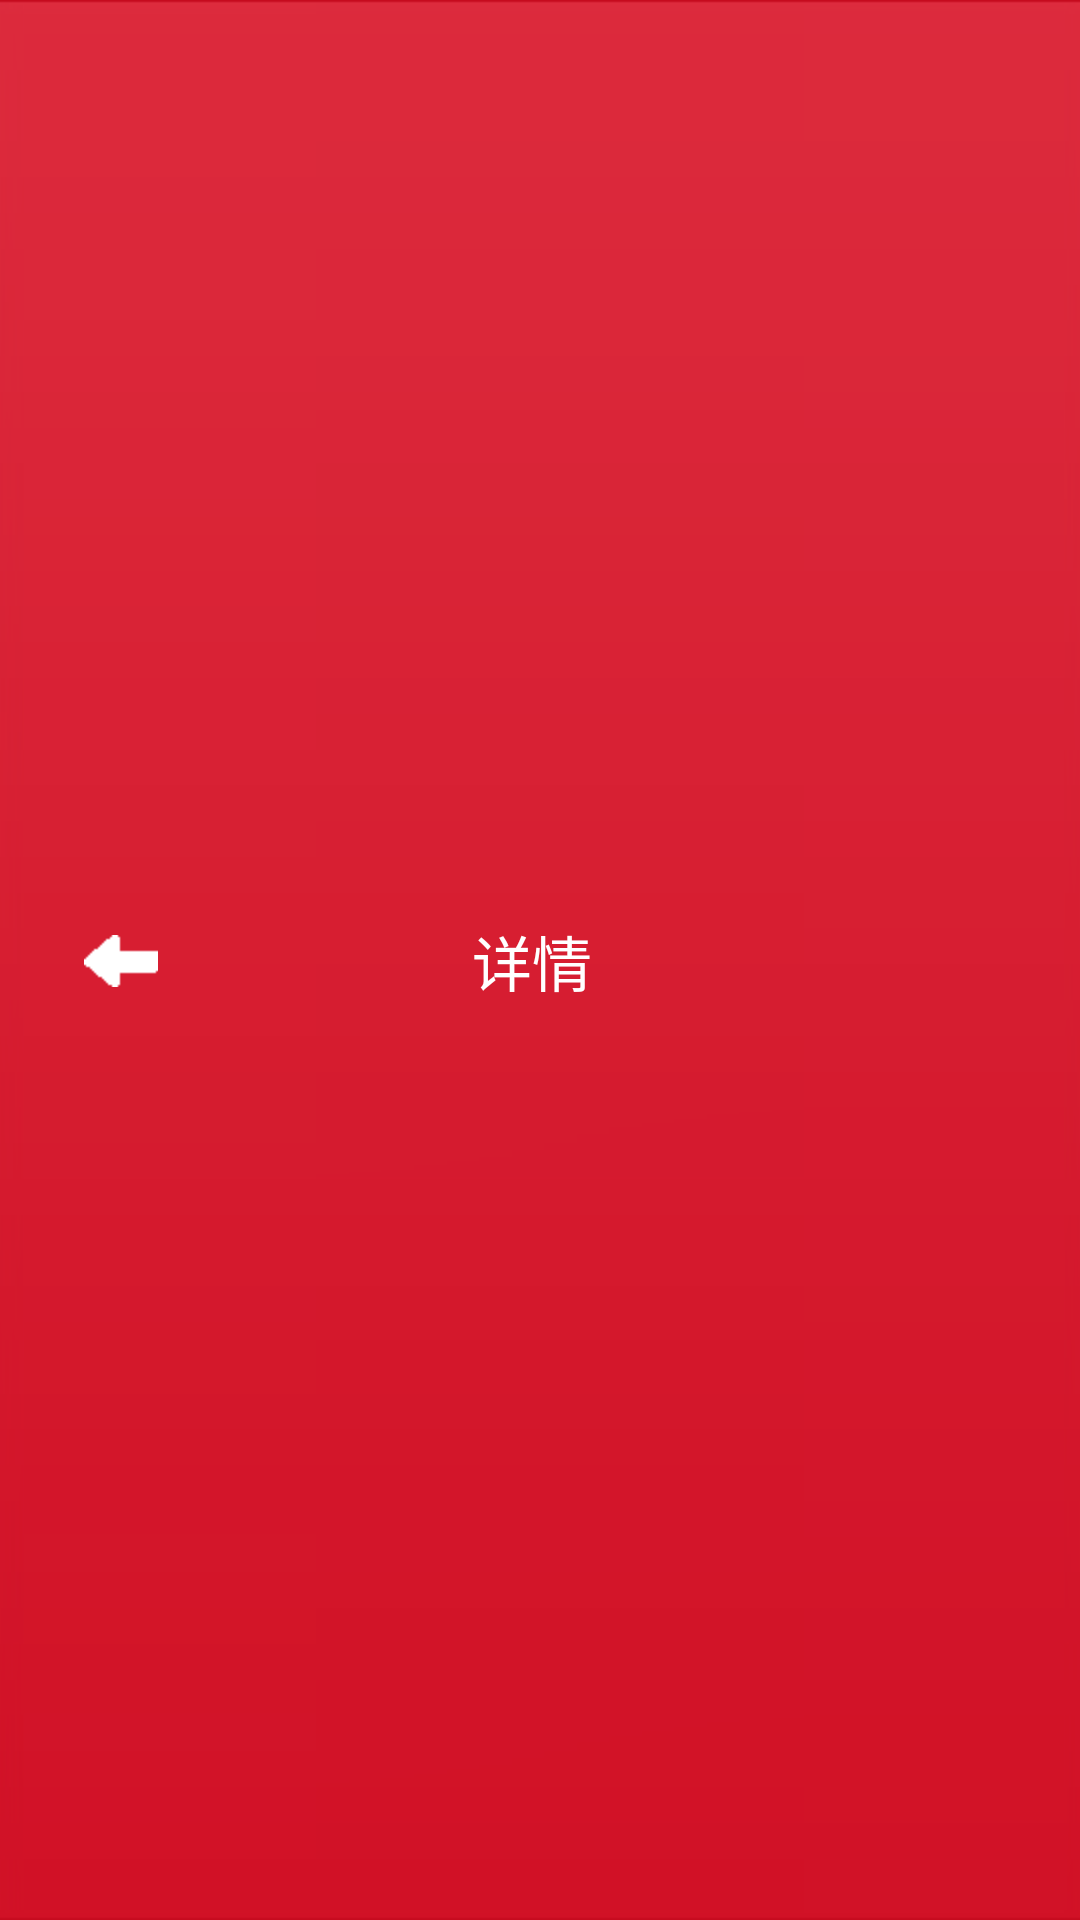

Screen size 1080x1920. Icon name, then its center in pixels as (x=x, y=y):
back: (x=121, y=961)
